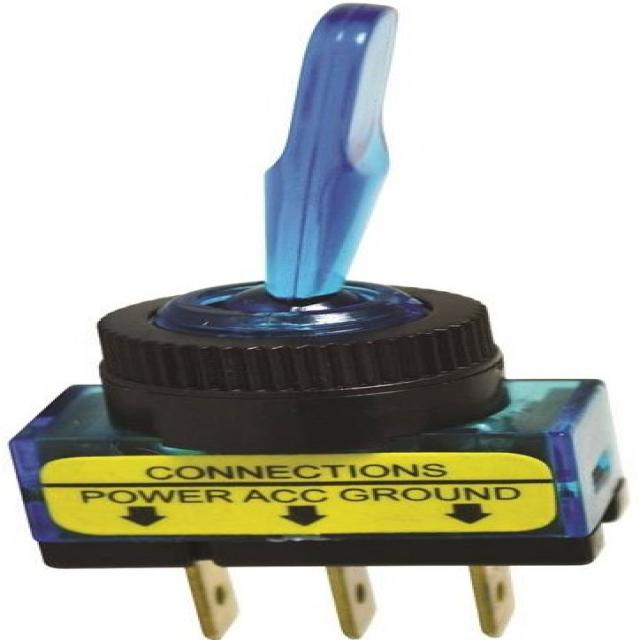toggle switch: (94, 7, 503, 400)
